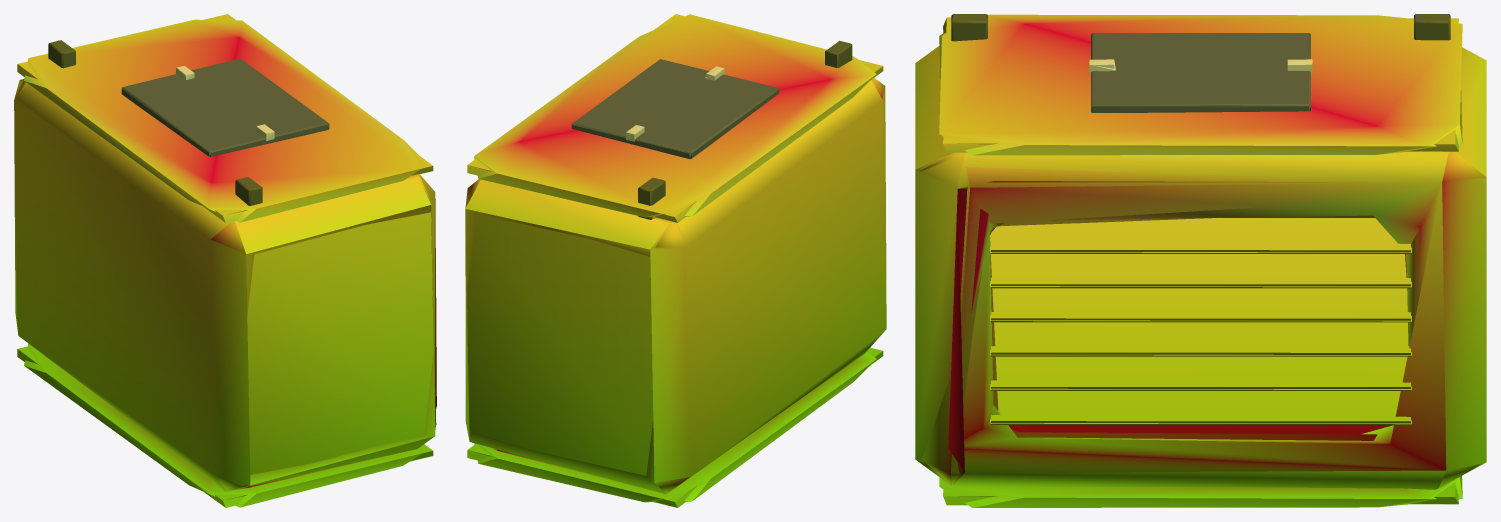
File: RCLModule_overlord_command_hq_solar_gold_radiator_LODs.fbx
The picture shows the model from 3 angles, left to right: view 1: azimuth 30°, elevation 25°; view 2: azimuth 150°, elevation 25°; view 3: azimuth 270°, elevation 25°; orthographic projection. The views are drawn at different scales.
Visible parts, largest first — view 1: LOD1_RCLModule_overlord_command_hq_solar_gold_radiator_Batch (×2), LOD2_RCLModule_overlord_command_hq_solar_gold_radiator_Batch; view 2: LOD1_RCLModule_overlord_command_hq_solar_gold_radiator_Batch (×2), LOD2_RCLModule_overlord_command_hq_solar_gold_radiator_Batch; view 3: LOD1_RCLModule_overlord_command_hq_solar_gold_radiator_Batch (×2), LOD2_RCLModule_overlord_command_hq_solar_gold_radiator_Batch.
Part boxes in pixels (x1,y1,x2,y2): LOD1_RCLModule_overlord_command_hq_solar_gold_radiator_Batch (×2): [14, 19, 436, 507]; LOD2_RCLModule_overlord_command_hq_solar_gold_radiator_Batch: [14, 14, 436, 507]; LOD1_RCLModule_overlord_command_hq_solar_gold_radiator_Batch (×2): [465, 14, 886, 502]; LOD2_RCLModule_overlord_command_hq_solar_gold_radiator_Batch: [467, 14, 883, 507]; LOD1_RCLModule_overlord_command_hq_solar_gold_radiator_Batch (×2): [915, 14, 1486, 507]; LOD2_RCLModule_overlord_command_hq_solar_gold_radiator_Batch: [919, 17, 1479, 505].
Size of the model in its own units: 34.91 by 46.66 by 62.27.
